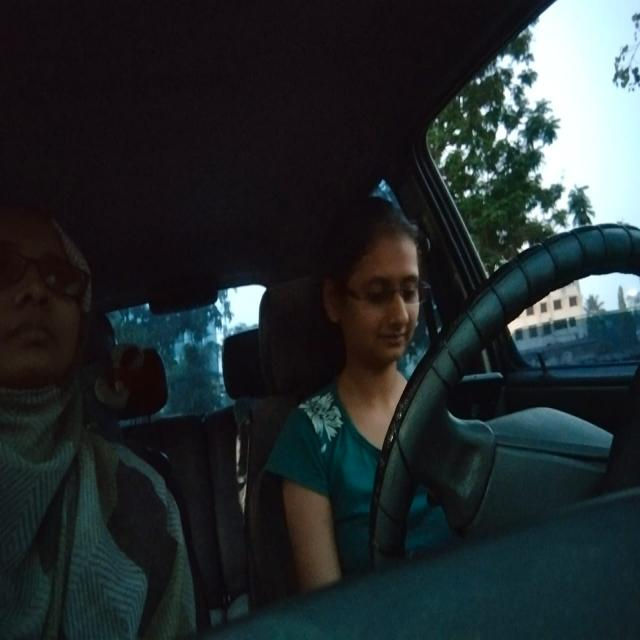mobile: (454, 370, 510, 425)
person: (3, 200, 105, 445), (312, 186, 428, 382)
